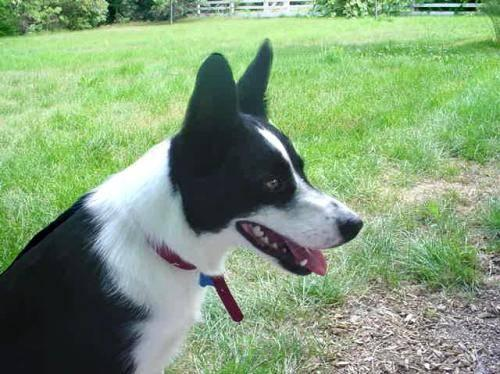dog: (0, 39, 362, 373)
